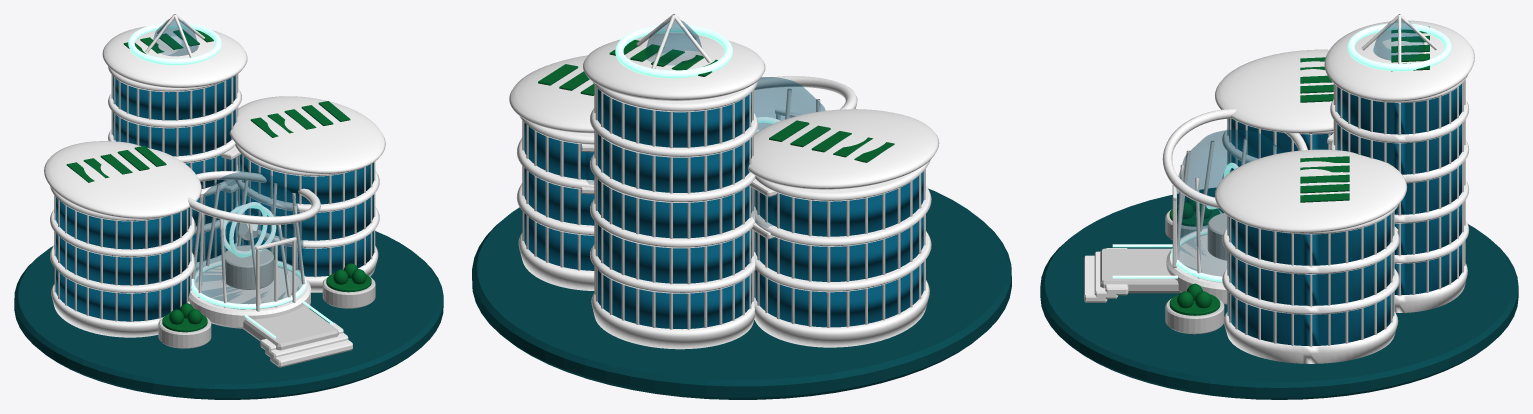
File: doe-national-laboratory.glb
3 views of the same model, side by side, from view 1: azimuth 30°, elevation 25°; view 2: azimuth 150°, elevation 25°; view 3: azimuth 270°, elevation 25° (orthographic). The views are drawn at different scales.
Parts seen in each view (by area): view 1: body, pedestal; view 2: body, pedestal; view 3: body, pedestal.
Part boxes in pixels (bbox=[...]): body: bbox=[44, 14, 385, 367]; pedestal: bbox=[14, 231, 443, 399]; body: bbox=[509, 14, 939, 349]; pedestal: bbox=[472, 188, 1011, 399]; body: bbox=[1084, 14, 1474, 363]; pedestal: bbox=[1040, 187, 1518, 399].
Bounding box in the file's own units: 4.4 × 2.91 × 4.4.
